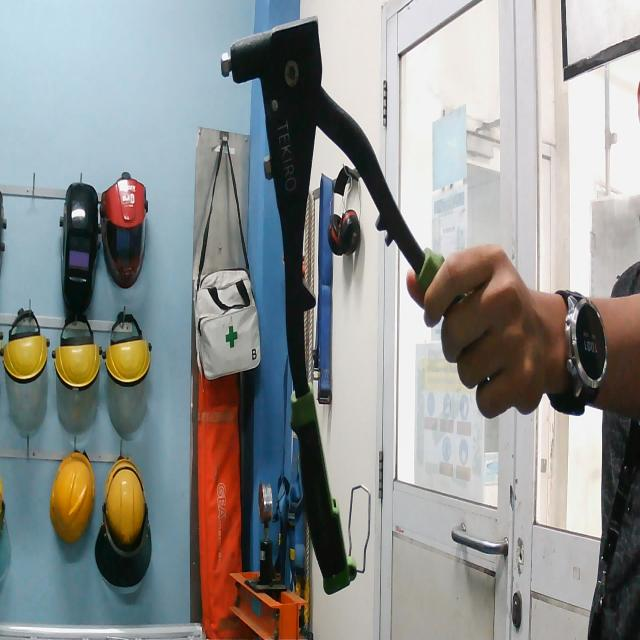tang_rivet: (217, 8, 497, 603)
